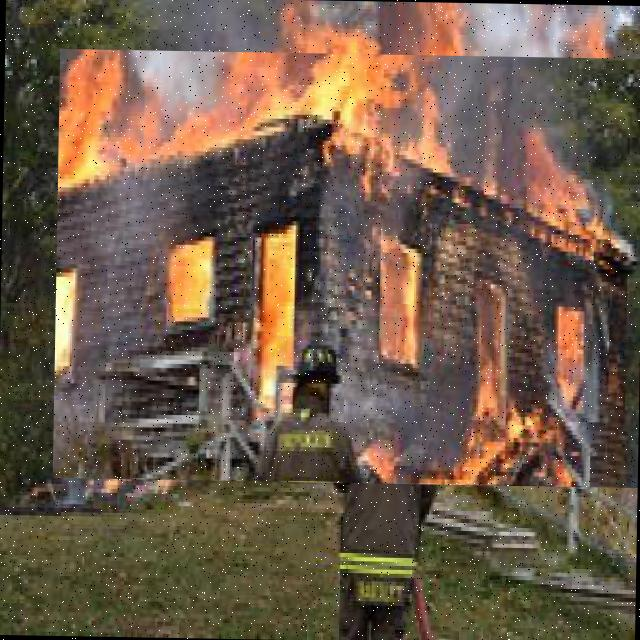fire: (52, 48, 640, 487)
